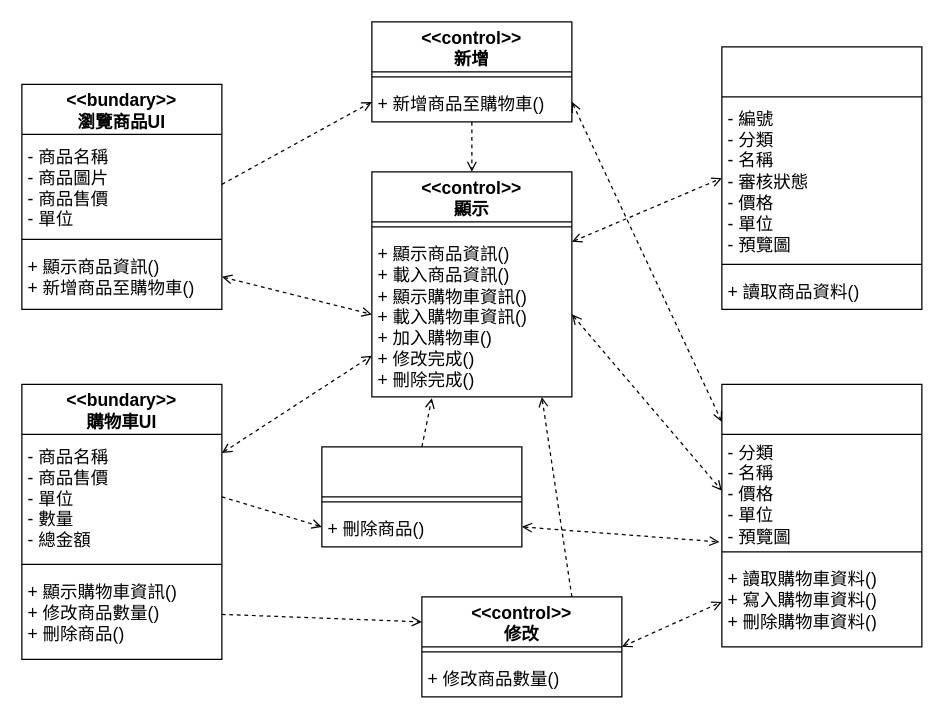
Some shapes in this 944 by 725 pixel diagram are drawn without their labels. The shapes that lost their labels are listed below. From the top down, each one's box as (x1, y1, x2, y2) in pixels, then its label:
(721, 46, 922, 309): <<entity>> 商品資料
(321, 446, 522, 547): <<control>> 刪除
(721, 383, 922, 647): <<entity>> 購物車資料
